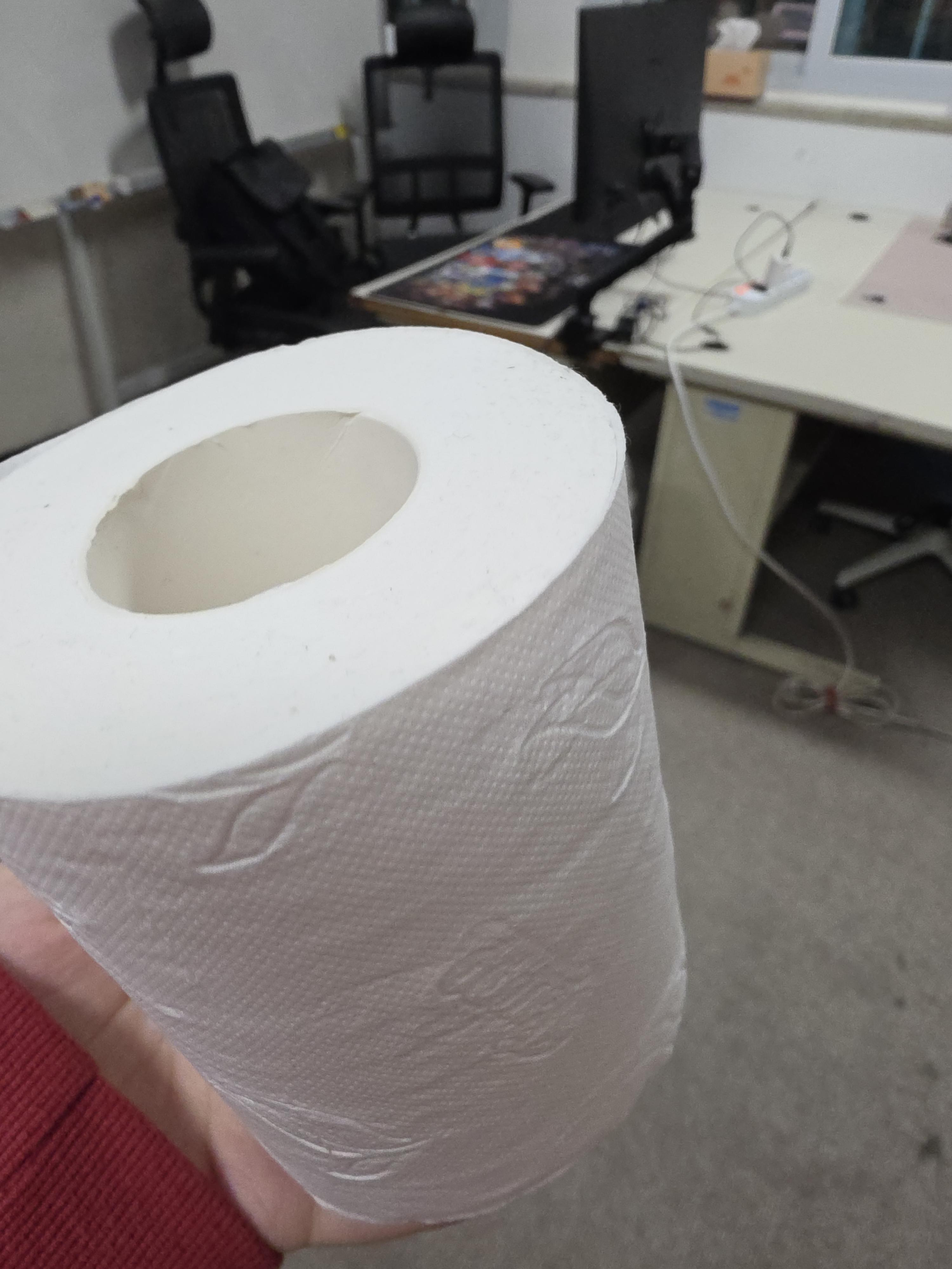tissue: (0, 325, 688, 1227), (703, 17, 769, 102)
